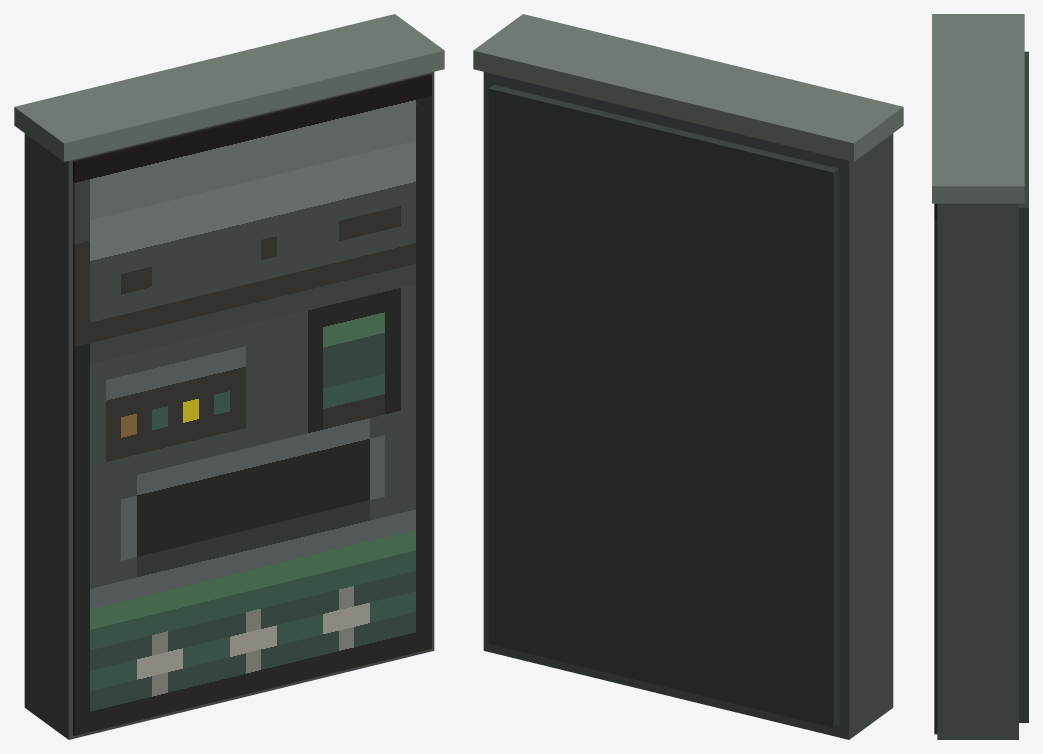
File: CMU3DInteriorVehicleInteriorMedVendorVend.glb
3 renders of one model, left to right at view 1: azimuth 30°, elevation 25°; view 2: azimuth 150°, elevation 25°; view 3: azimuth 270°, elevation 25°, orthographic. The views are drawn at different scales.
Visible parts, largest first — view 1: source equipment controls, closed equipment casing, reinforced top; view 2: rear service plate, closed equipment casing, reinforced top; view 3: closed equipment casing, reinforced top, rear service plate, source equipment controls.
Part boxes in pixels (x1,y1,x2,y2): source equipment controls: (73, 74, 431, 735); closed equipment casing: (24, 72, 434, 739); reinforced top: (14, 14, 444, 161); rear service plate: (488, 84, 838, 727); closed equipment casing: (483, 72, 893, 739); reinforced top: (473, 14, 903, 161); closed equipment casing: (937, 203, 1018, 739); reinforced top: (932, 14, 1024, 203); rear service plate: (1019, 51, 1028, 722); source equipment controls: (934, 203, 937, 734).
Size of the model in its own units: 0.7488 by 1.13 by 0.178.
Materials: 4 (1 with a texture image).
